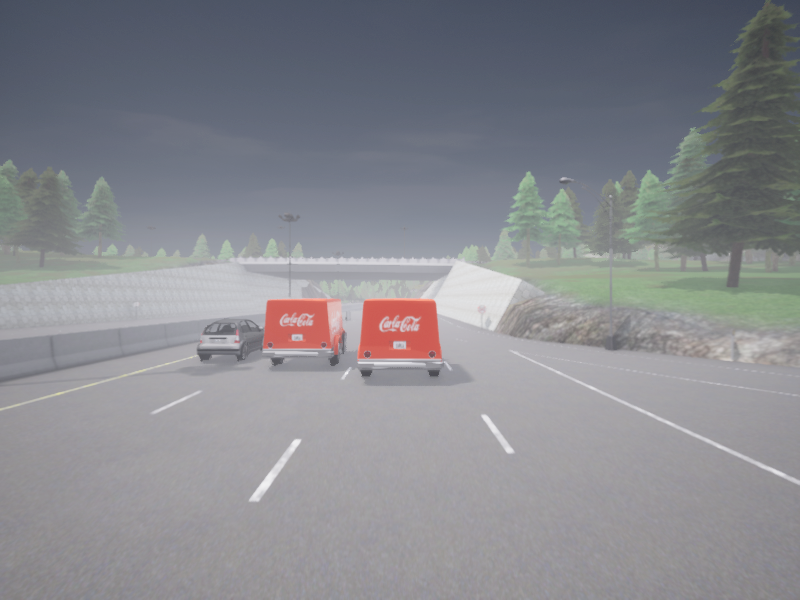vehicle: (357, 298, 443, 375), (262, 298, 350, 363), (197, 319, 264, 360)
